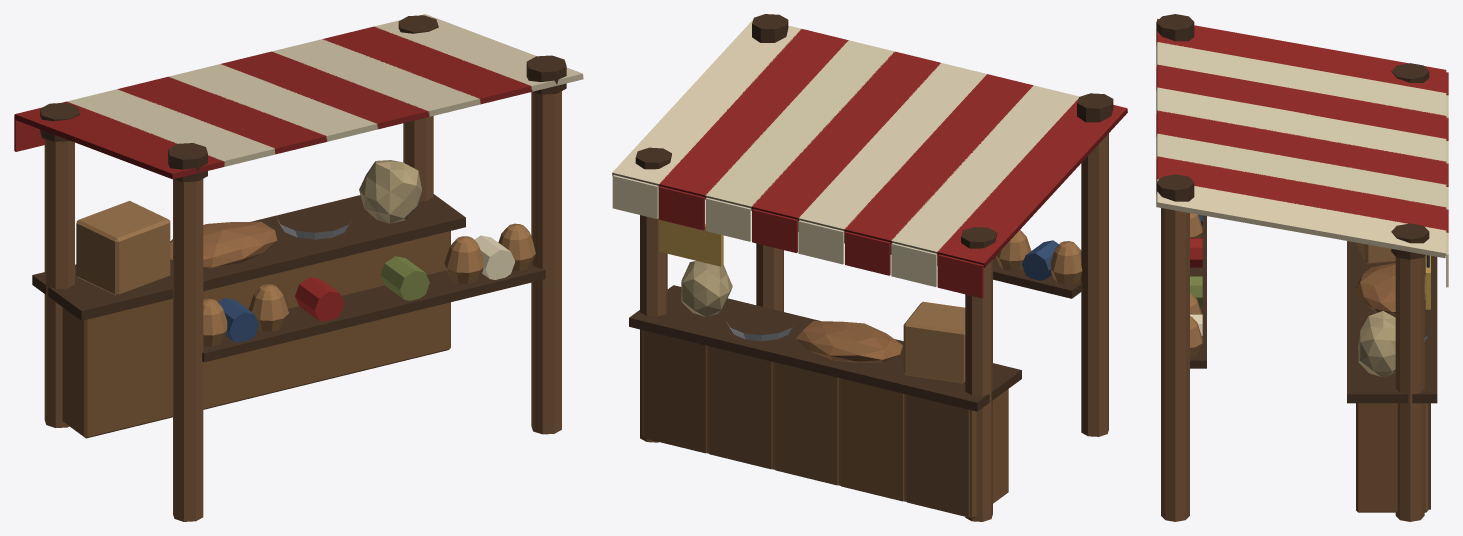
File: TraderStall.glb
3 views of the same model, side by side, from view 1: azimuth 30°, elevation 25°; view 2: azimuth 150°, elevation 25°; view 3: azimuth 270°, elevation 25° (orthographic). The views are drawn at different scales.
Parts seen in each view (by area): view 1: Mat_Wood_8b633e, Mat_Wood_5e422b, Mat_Cloth_832320, Mat_Cloth_74404a, Mat_Cloth_e0d2b2, Mat_Wood_9c7046, Mat_Thatch_a5936e, Mat_Leaves_788246, Mat_Stone_a9a494, Mat_Thatch_b39c6a; view 2: Mat_Wood_5e422b, Mat_Cloth_832320, Mat_Cloth_74404a, Mat_Cloth_e0d2b2, Mat_Wood_8b633e, Mat_Thatch_b39c6a, Mat_Thatch_a5936e, Mat_Wood_9c7046; view 3: Mat_Cloth_832320, Mat_Wood_5e422b, Mat_Cloth_74404a, Mat_Wood_8b633e, Mat_Cloth_e0d2b2, Mat_Stone_a9a494, Mat_Thatch_a5936e, Mat_Thatch_b39c6a, Mat_Wood_9c7046.
Boxes of the visible parts, <box> form: Mat_Wood_8b633e: <box>62,92,554,438</box>; Mat_Wood_5e422b: <box>32,15,566,521</box>; Mat_Cloth_832320: <box>14,26,532,179</box>; Mat_Cloth_74404a: <box>67,39,479,342</box>; Mat_Cloth_e0d2b2: <box>169,14,582,279</box>; Mat_Wood_9c7046: <box>203,223,535,331</box>; Mat_Thatch_a5936e: <box>359,160,422,223</box>; Mat_Leaves_788246: <box>380,256,429,300</box>; Mat_Stone_a9a494: <box>224,73,583,166</box>; Mat_Thatch_b39c6a: <box>359,160,421,223</box>; Mat_Wood_5e422b: <box>629,14,1113,521</box>; Mat_Cloth_832320: <box>658,29,1127,298</box>; Mat_Cloth_74404a: <box>659,40,1079,280</box>; Mat_Cloth_e0d2b2: <box>612,19,939,286</box>; Mat_Wood_8b633e: <box>642,243,1082,517</box>; Mat_Thatch_b39c6a: <box>659,219,730,317</box>; Mat_Thatch_a5936e: <box>681,261,732,316</box>; Mat_Wood_9c7046: <box>996,230,1080,270</box>; Mat_Cloth_832320: <box>1156,18,1448,230</box>; Mat_Wood_5e422b: <box>1156,14,1437,521</box>; Mat_Cloth_74404a: <box>1157,42,1448,267</box>; Mat_Wood_8b633e: <box>1175,210,1428,521</box>; Mat_Cloth_e0d2b2: <box>1157,95,1448,343</box>; Mat_Stone_a9a494: <box>1156,43,1446,258</box>; Mat_Thatch_a5936e: <box>1358,316,1395,376</box>; Mat_Thatch_b39c6a: <box>1360,255,1430,376</box>; Mat_Wood_9c7046: <box>1190,213,1202,357</box>.
Size of the model in its own units: 9.62 by 8.15 by 6.47.
Materials: 1 (1 with a texture image).
